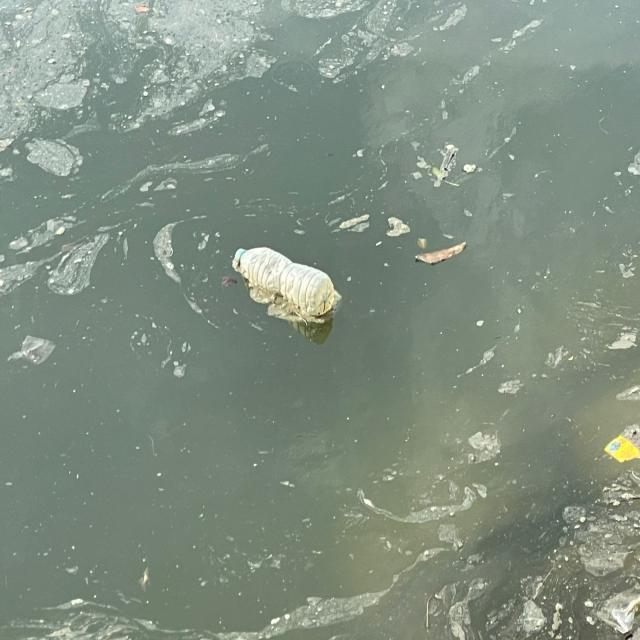Botol Plastik: (230, 240, 340, 327)
